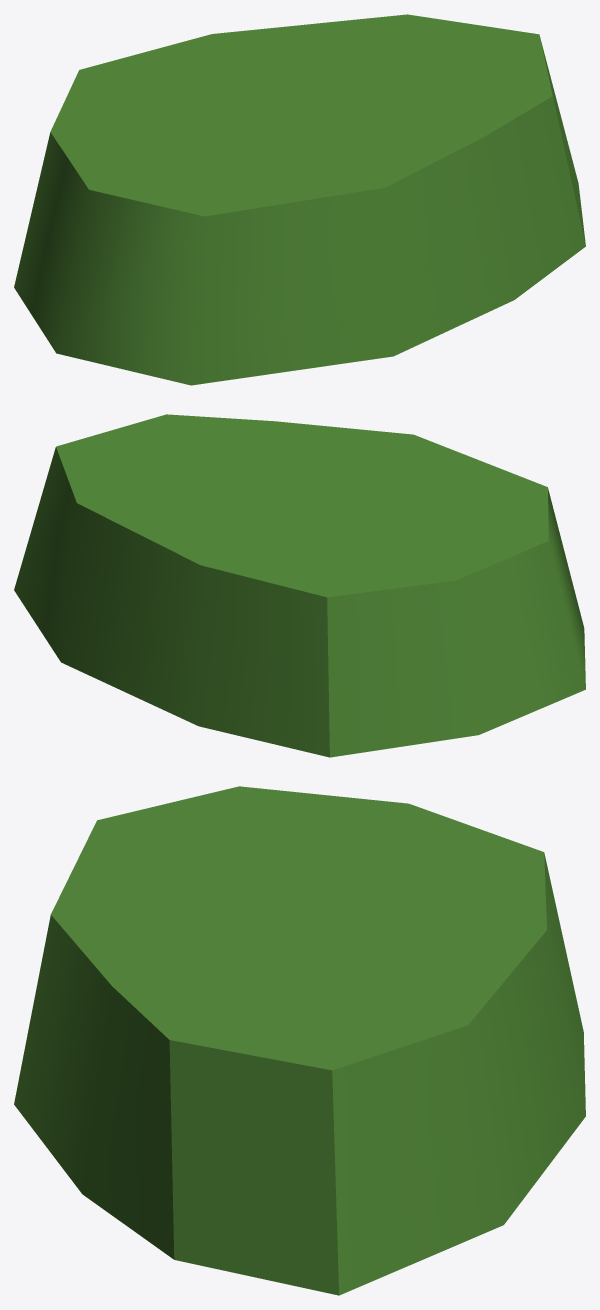
The model's file is grass_layer_crumb_small_B.fbx.
3 renders of one model, top to bottom at view 1: azimuth 30°, elevation 25°; view 2: azimuth 150°, elevation 25°; view 3: azimuth 270°, elevation 25°, orthographic. The views are drawn at different scales.
Visible parts, largest first — view 1: grass_layer_crumb_small_B; view 2: grass_layer_crumb_small_B; view 3: grass_layer_crumb_small_B.
Boxes of the visible parts, x1=… form: grass_layer_crumb_small_B: x1=14, y1=14, x2=585, y2=385; grass_layer_crumb_small_B: x1=14, y1=414, x2=585, y2=757; grass_layer_crumb_small_B: x1=14, y1=786, x2=585, y2=1295.
Bounding box in the file's own units: 57.65 × 15.7 × 40.71.
